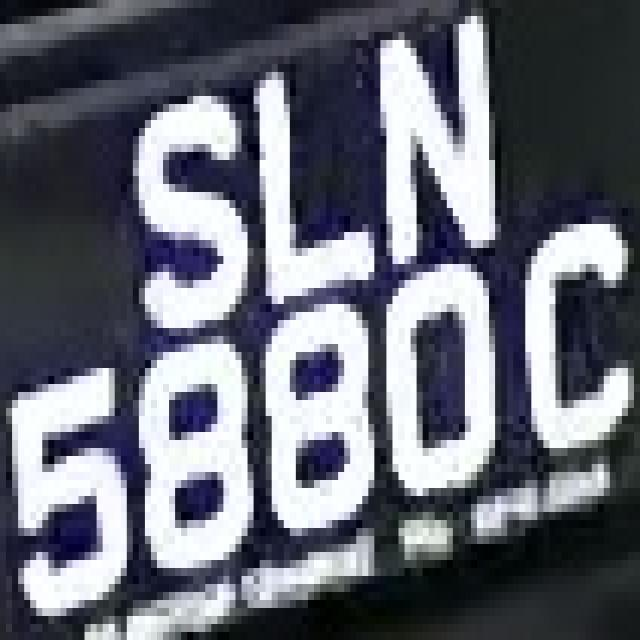0: (368, 272, 501, 528)
5: (18, 328, 145, 616)
8: (114, 320, 266, 584), (253, 304, 392, 536)
C: (501, 176, 634, 488)
L: (230, 56, 386, 296)
N: (362, 16, 513, 280)
S: (109, 56, 248, 352)
